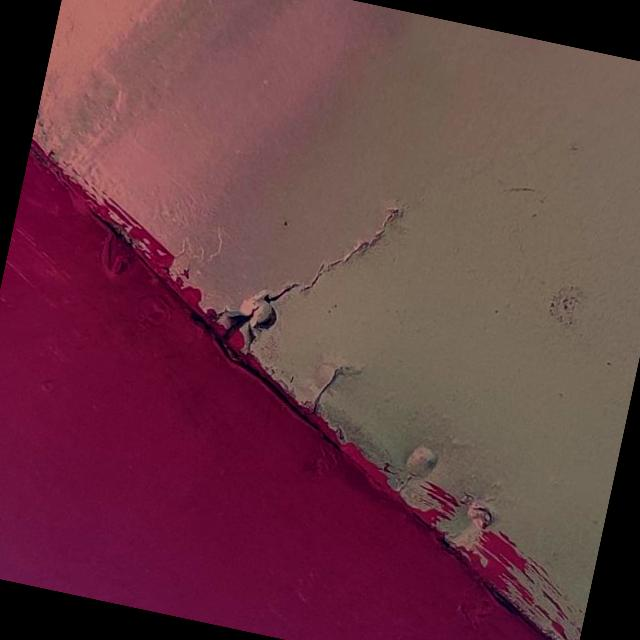crack: (198, 158, 416, 392), (292, 348, 358, 430)
